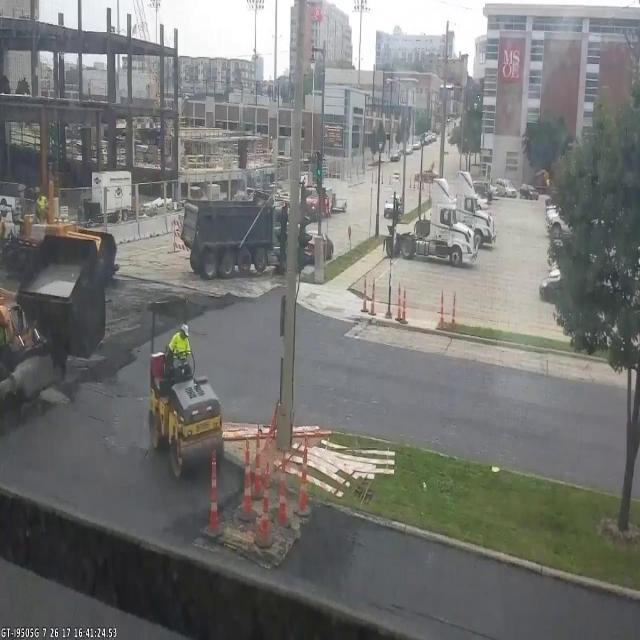Dump Truck: (179, 187, 287, 281)
Roller: (144, 296, 224, 480)
